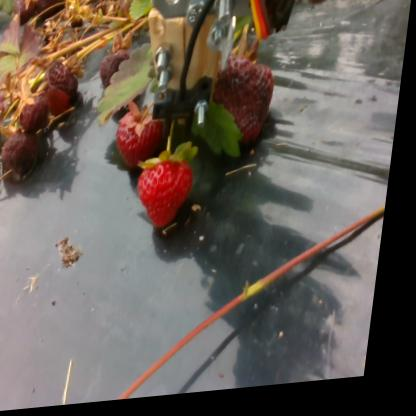ripe: (134, 153, 209, 239), (114, 101, 173, 174)
unripe: (205, 51, 287, 156), (33, 55, 87, 113), (1, 126, 49, 185), (95, 47, 137, 97), (20, 93, 55, 136)
